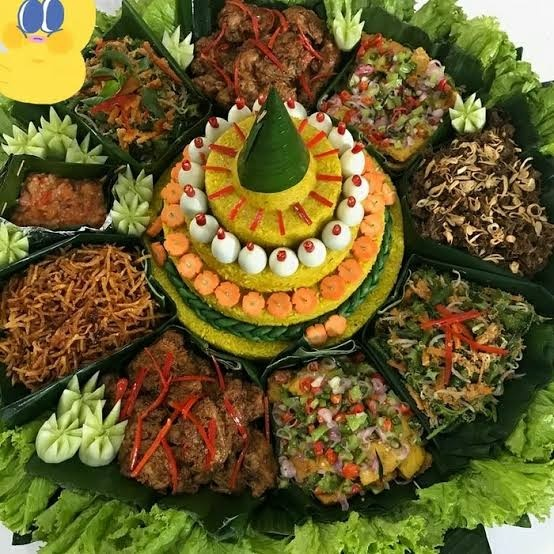tumpeng: (205, 83, 333, 242)
